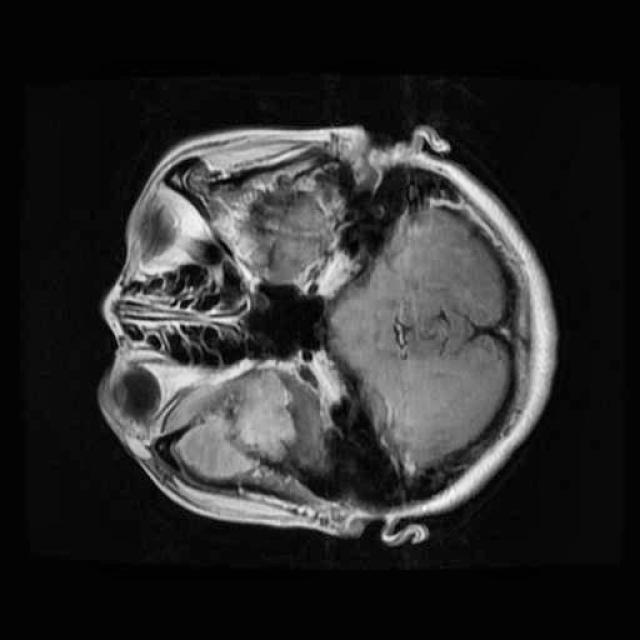Tumor: (143, 356, 305, 504)
